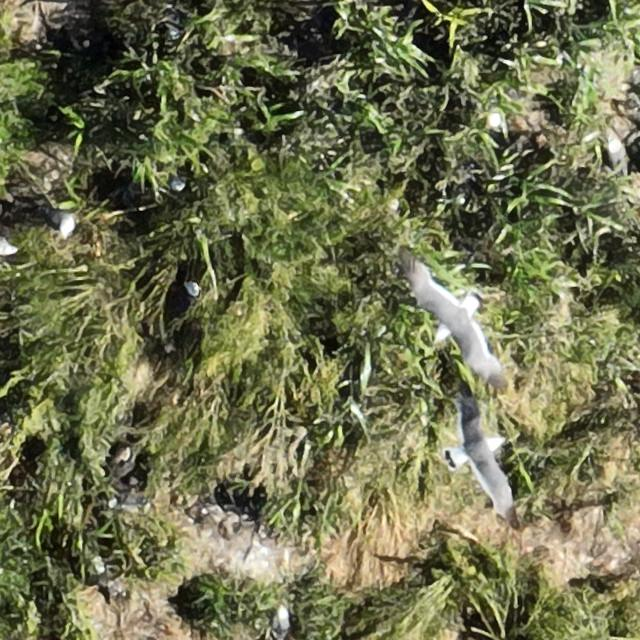F: (439, 393, 510, 514), (420, 271, 498, 371)
umineko: (604, 133, 629, 168), (47, 211, 75, 235), (273, 608, 289, 636), (183, 270, 198, 298)
